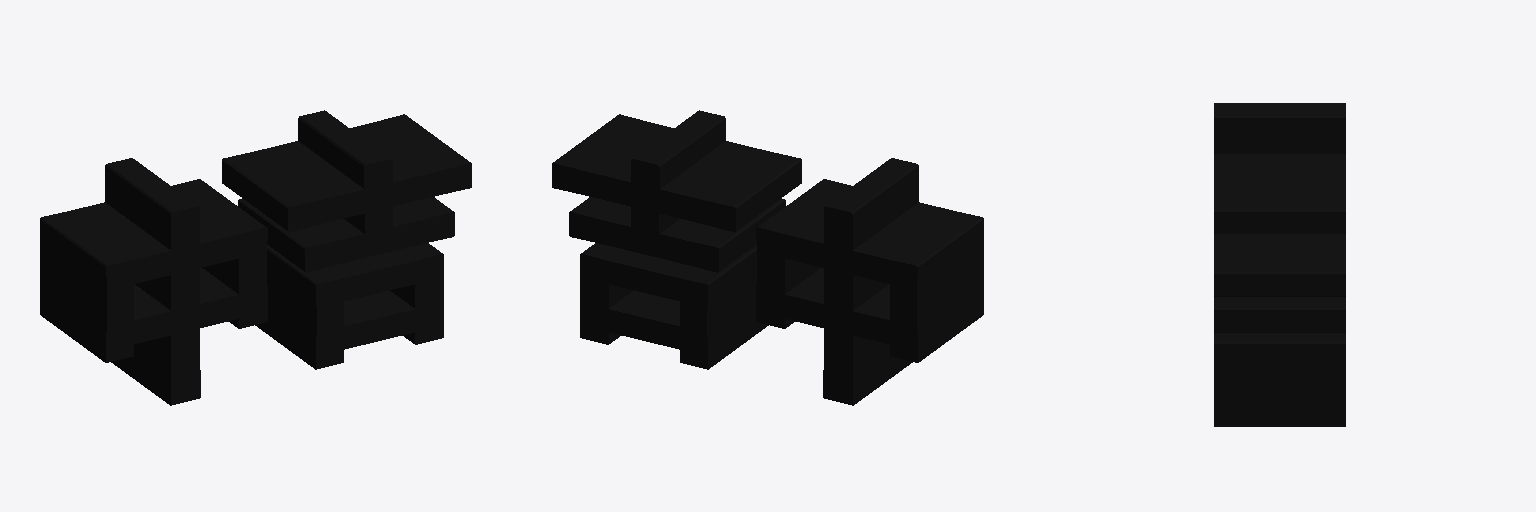
The model's file is chukichi.obj.
3 views of the same model, side by side, from view 1: azimuth 30°, elevation 25°; view 2: azimuth 150°, elevation 25°; view 3: azimuth 270°, elevation 25° (orthographic).
Parts seen in each view (by area): view 1: Curve; view 2: Curve; view 3: Curve.
Part boxes in pixels (left/top/right/bottom): Curve: left=40, top=110, right=471, bottom=405; Curve: left=552, top=110, right=983, bottom=405; Curve: left=1214, top=103, right=1345, bottom=426.
Bounding box in the file's own units: 0.3756 × 0.189 × 0.1178.